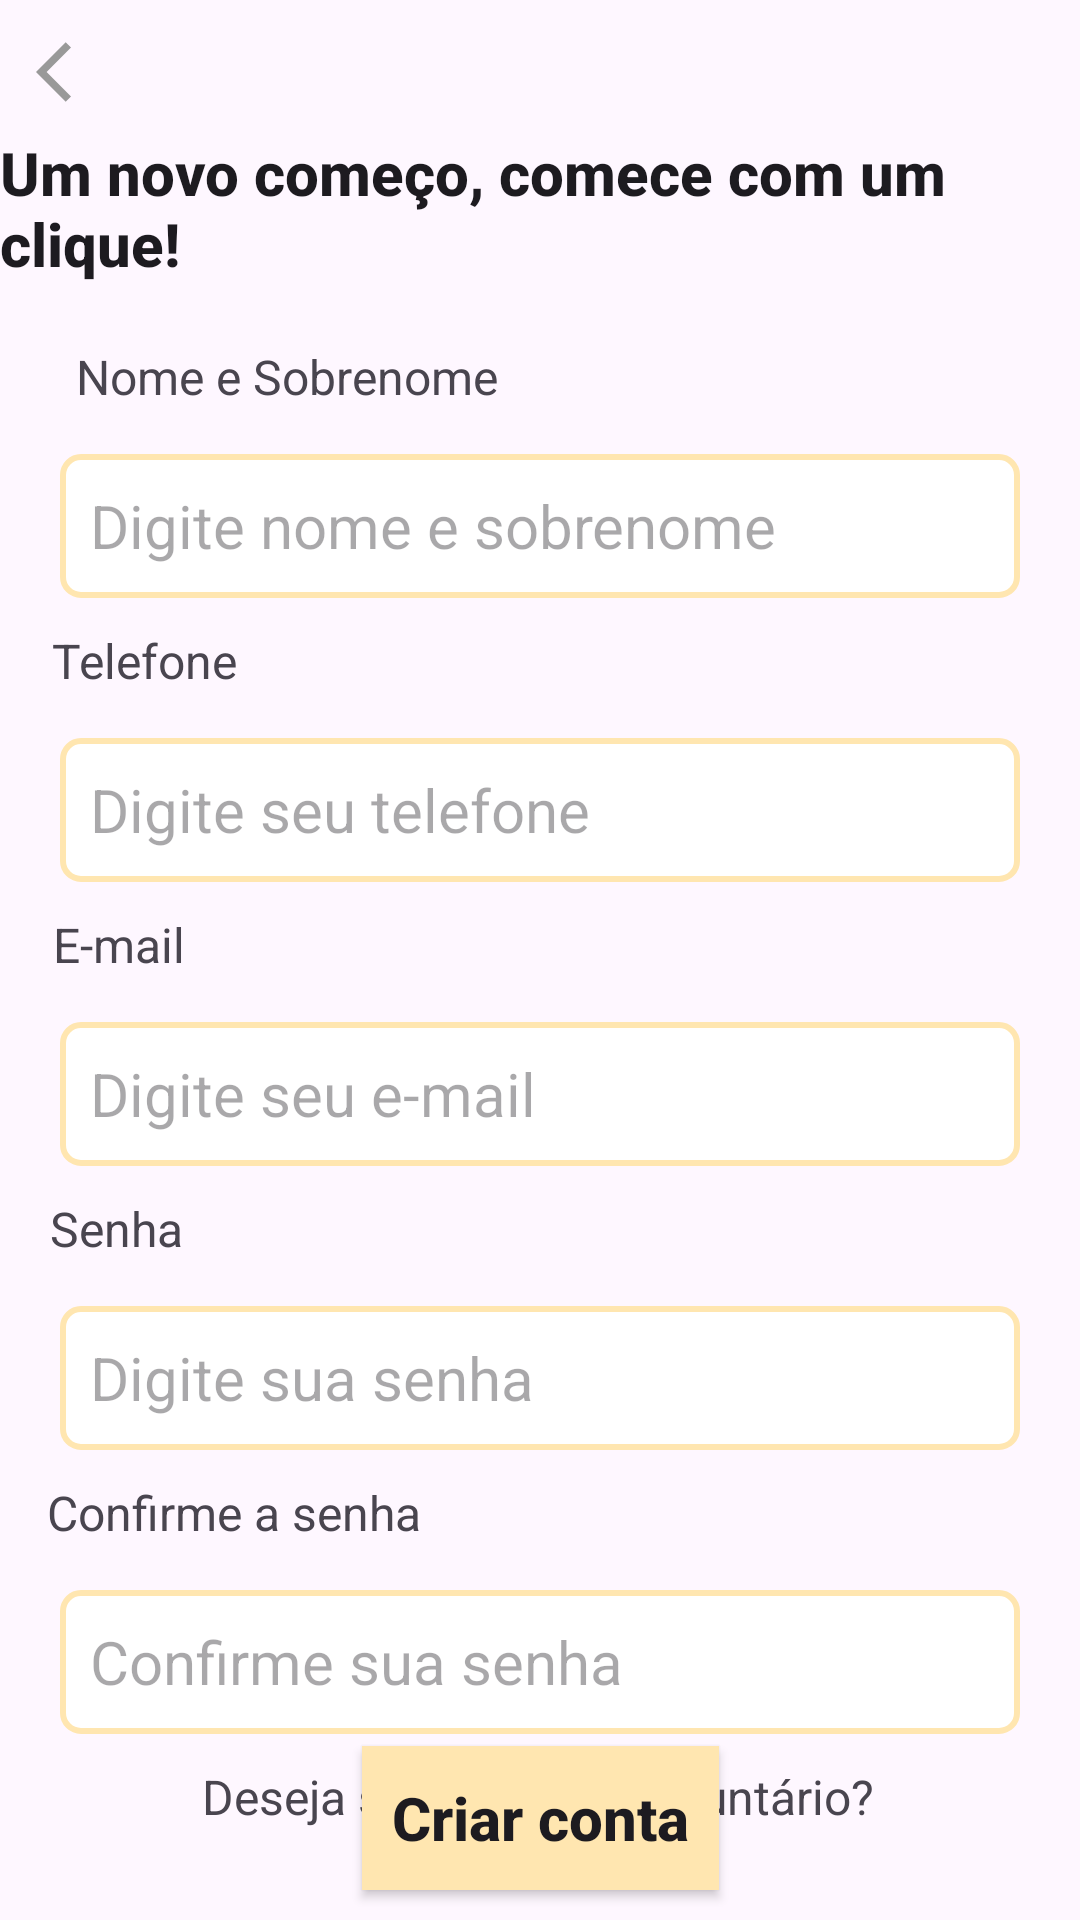

Icons on this 1080px×1920px Android screen, each with its box as (x1, y1, x2, y2):
Voltar: (36, 42, 71, 102)
